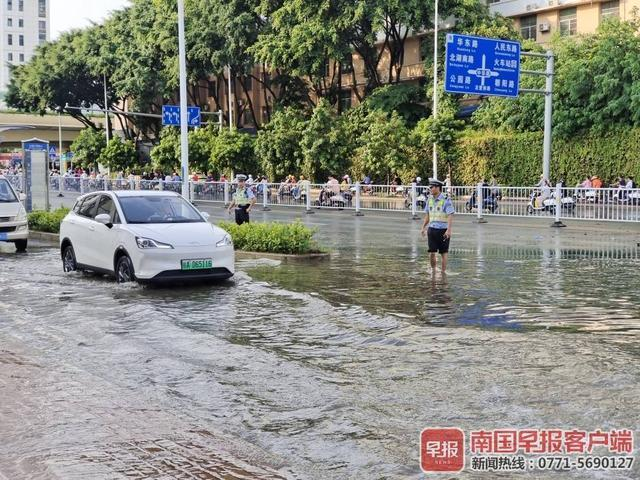puddle: (3, 247, 638, 477)
